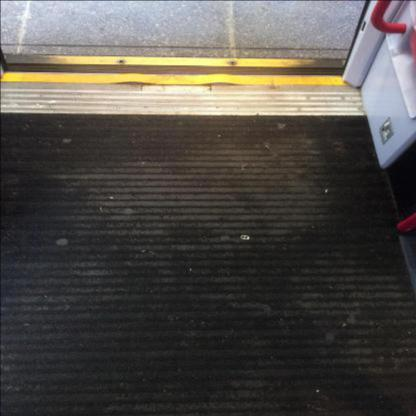Pop tab: (240, 235, 249, 240)
